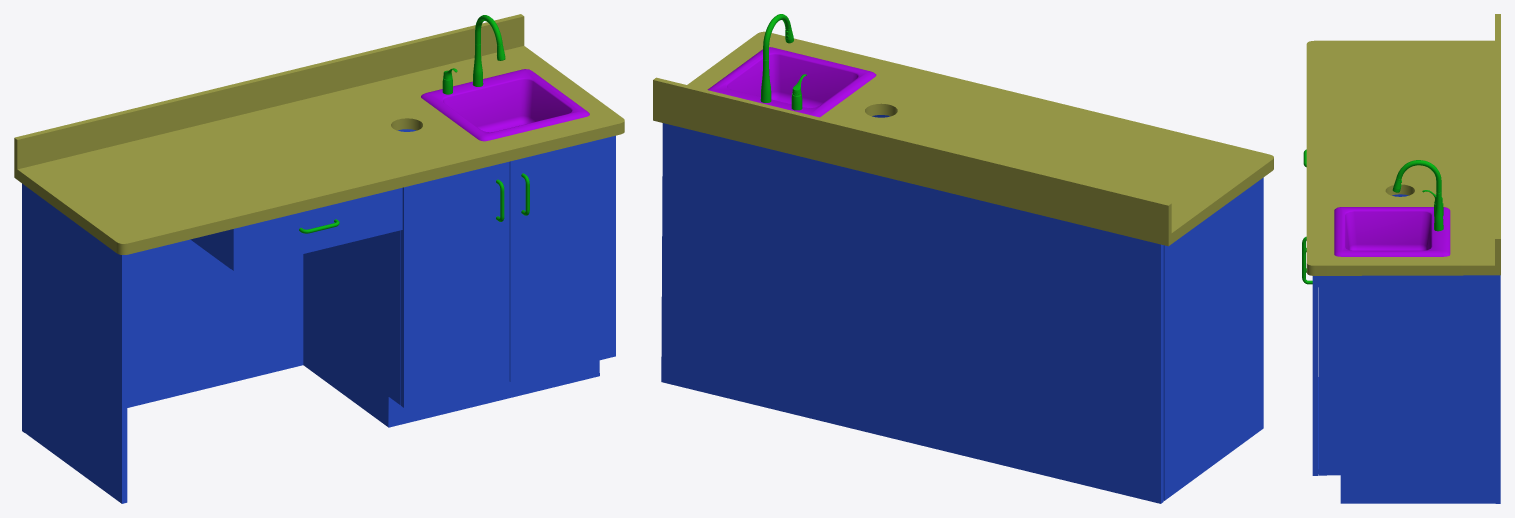
File: Cabinet 1 V2.FBX
3 views of the same model, side by side, from view 1: azimuth 30°, elevation 25°; view 2: azimuth 150°, elevation 25°; view 3: azimuth 270°, elevation 25° (orthographic). The views are drawn at different scales.
Visible parts, largest first — view 1: Object030, Counter Top 1.003, Box187, 647, Cylinder023; view 2: Object030, Counter Top 1.003, Box187, 647; view 3: Object030, Counter Top 1.003, Box187, 647, Cylinder023.
Part boxes in pixels (<box>): Object030: <box>22,129,615,503</box>; Counter Top 1.003: <box>14,14,624,254</box>; Box187: <box>421,69,589,141</box>; 647: <box>442,15,505,94</box>; Cylinder023: <box>299,173,529,233</box>; Object030: <box>661,115,1263,503</box>; Counter Top 1.003: <box>653,31,1273,246</box>; Box187: <box>707,47,876,117</box>; 647: <box>760,14,806,110</box>; Object030: <box>1312,194,1500,503</box>; Counter Top 1.003: <box>1306,14,1500,275</box>; Box187: <box>1334,207,1450,256</box>; 647: <box>1392,160,1443,231</box>; Cylinder023: <box>1302,149,1312,284</box>.
Bounding box in the file's own units: 11.98 × 7.78 × 4.47.
